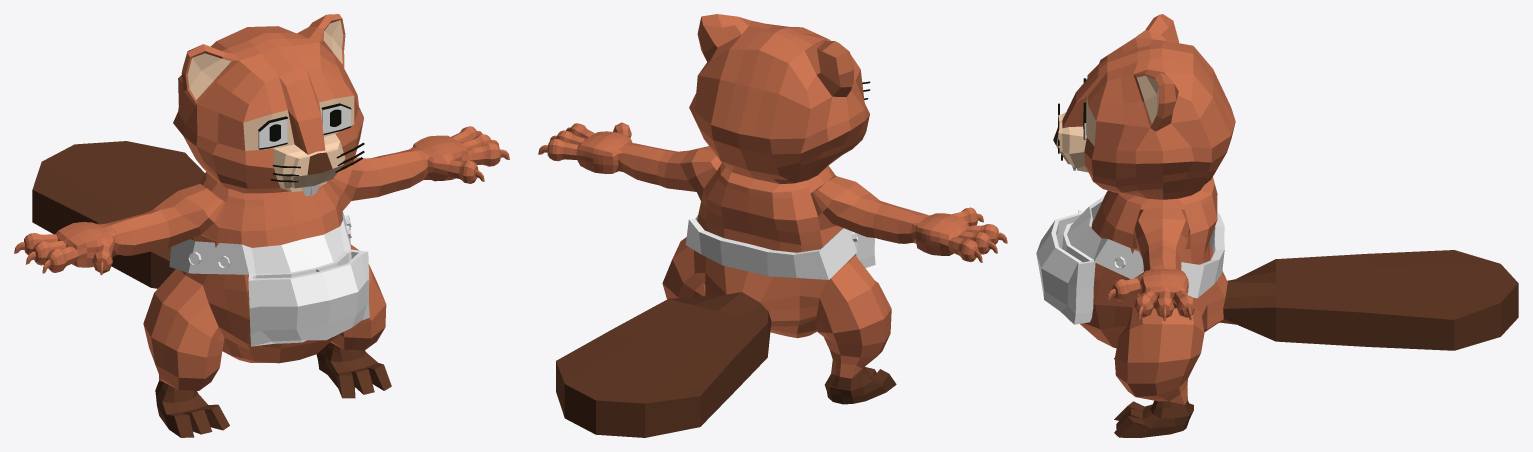
Rendered from Castor.fbx.
3 renders of one model, left to right at view 1: azimuth 30°, elevation 25°; view 2: azimuth 150°, elevation 25°; view 3: azimuth 270°, elevation 25°, orthographic. The views are drawn at different scales.
Visible parts, largest first — view 1: Body; view 2: Body; view 3: Body.
Boxes of the visible parts, x1,y1,x2,y2 form: Body: (14, 14, 509, 437); Body: (538, 14, 1007, 437); Body: (1036, 14, 1518, 437).
Bounding box in the file's own units: 633 × 470 × 593.
